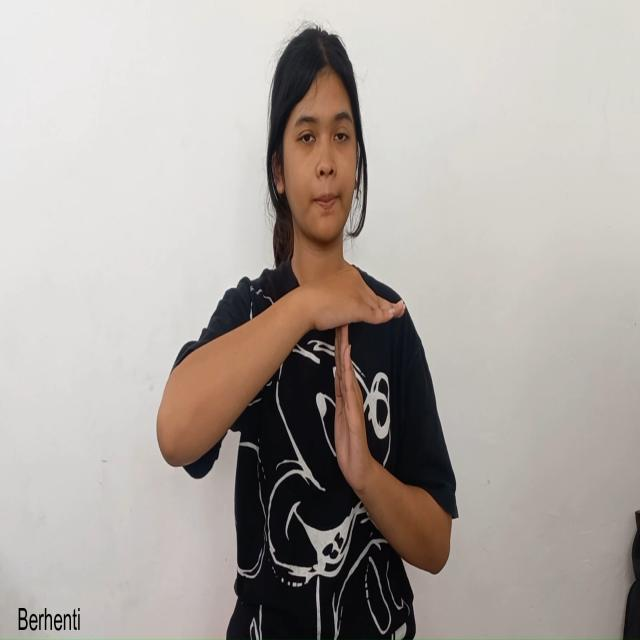Berhenti -BISINDO-: (242, 265, 400, 559)
